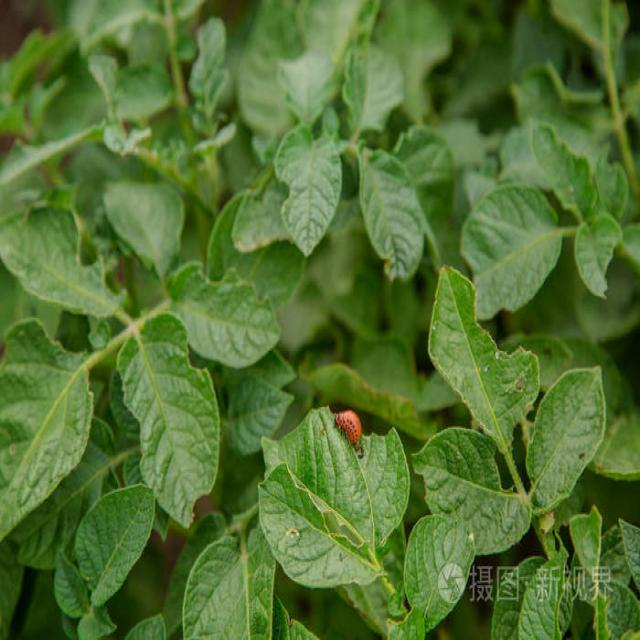ShuCaiHuaBanChong-Larva-: (333, 398, 374, 462)
